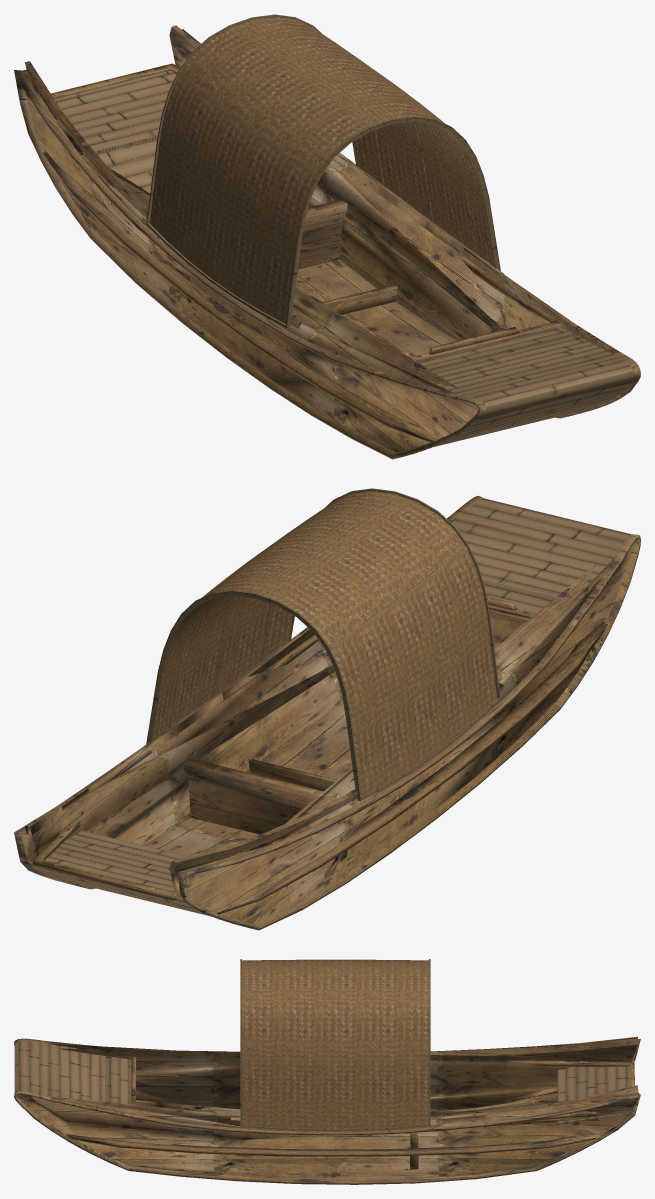
File: boat.FBX
The picture shows the model from 3 angles, top to bottom: view 1: azimuth 30°, elevation 25°; view 2: azimuth 150°, elevation 25°; view 3: azimuth 270°, elevation 25°; orthographic projection. The views are drawn at different scales.
Parts seen in each view (by area): view 1: boat, Object021, Object022; view 2: boat, Object021, Object022; view 3: boat, Object021, Object022.
Part boxes in pixels (<box>): boat: <box>14,25,640,459</box>; Object021: <box>150,17,494,323</box>; Object022: <box>54,14,634,446</box>; boat: <box>14,496,640,930</box>; Object021: <box>152,491,496,796</box>; Object022: <box>27,488,630,916</box>; boat: <box>14,1036,640,1184</box>; Object021: <box>242,959,429,1131</box>; Object022: <box>14,959,630,1131</box>.
Size of the model in its own units: 1189 by 1374 by 4107.
3 materials, 3 textured.
